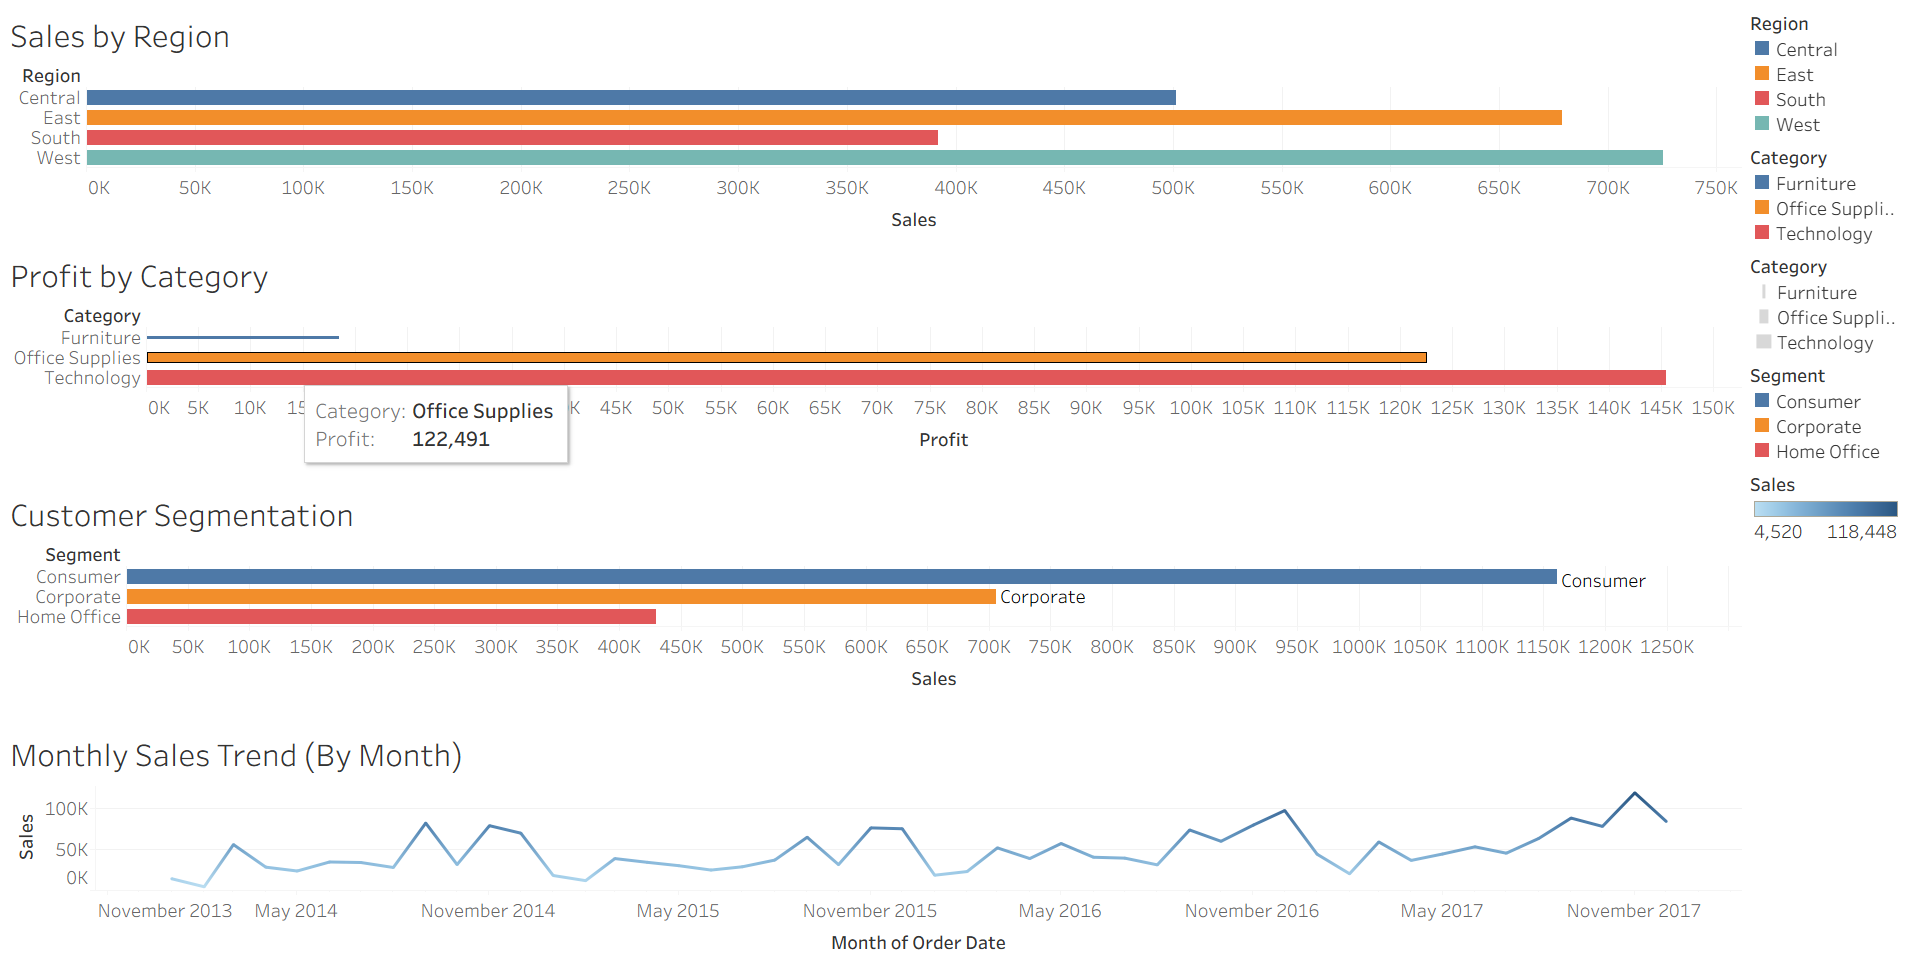

This screenshot's page, from the dashboard's own definition file:
{"tool":"tableau","page":{"name":"Superstore Sales & Profit Insights","canvas":[1000,1000],"units":"permille","ordinal":0},"visuals":[{"type":"worksheet","title":"Sales by Region","mark":"Automatic","rows":["Region"],"cols":["Sales"],"box":[4.9,9.8,892.9,245.1]},{"type":"legend","title":"Sales by Region","param":"[federated.10xx1qp1f1b7jw19y84vx0tx8f2l].[none:Region:nk]","box":[897.8,9.8,97.3,163.8]},{"type":"legend","title":"Profit by Category","param":"[federated.10xx1qp1f1b7jw19y84vx0tx8f2l].[none:Category:nk]","box":[897.8,173.6,97.3,133.2]},{"type":"worksheet","title":"Profit by Category","mark":"Automatic","rows":["Category"],"cols":["Profit"],"box":[4.9,254.8,892.9,245.1]},{"type":"legend","title":"Profit by Category","param":"[federated.10xx1qp1f1b7jw19y84vx0tx8f2l].[none:Category:nk]","box":[897.8,306.8,97.3,133.2]},{"type":"legend","title":"Customer Segmentation","param":"[federated.10xx1qp1f1b7jw19y84vx0tx8f2l].[none:Segment:nk]","box":[897.8,440.1,97.3,133.2]},{"type":"worksheet","title":"Customer Segmentation","mark":"Automatic","rows":["Segment"],"cols":["Sales"],"box":[4.9,499.9,892.9,245.1]},{"type":"legend","title":"Monthly Sales Trend (By Month)","param":"[federated.10xx1qp1f1b7jw19y84vx0tx8f2l].[sum:Sales:qk]","box":[897.8,573.3,97.3,99]},{"type":"worksheet","title":"Monthly Sales Trend (By Month)","mark":"Automatic","rows":["Sales"],"cols":["Order Date"],"box":[4.9,745.1,892.9,245.2]}]}

Visuals, with their boxes on the dashboard's canvas, which has no fixed pixel size, in thousandths of its width and height (x1, y1, x2, y2). These are canvas units, not pixel positions in the 1913x962 screenshot, which may show the page scaled, cropped or inside an application window:
"Sales by Region" worksheet: (5, 10, 898, 255)
"Sales by Region" legend: (898, 10, 995, 174)
"Profit by Category" legend: (898, 174, 995, 307)
"Profit by Category" worksheet: (5, 255, 898, 500)
"Profit by Category" legend: (898, 307, 995, 440)
"Customer Segmentation" legend: (898, 440, 995, 573)
"Customer Segmentation" worksheet: (5, 500, 898, 745)
"Monthly Sales Trend (By Month)" legend: (898, 573, 995, 672)
"Monthly Sales Trend (By Month)" worksheet: (5, 745, 898, 990)
